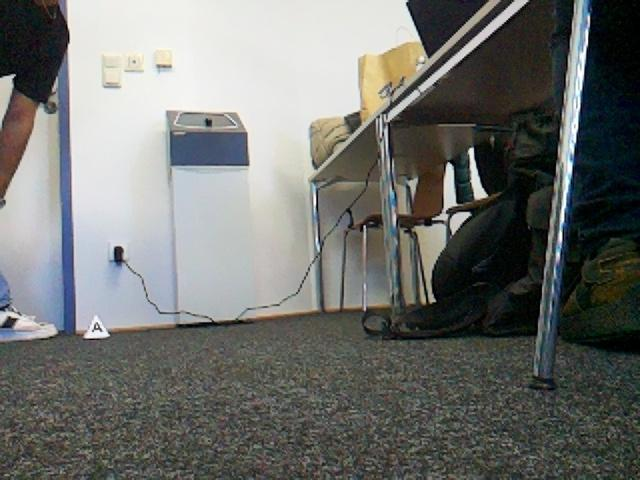A: (84, 315, 108, 337)
